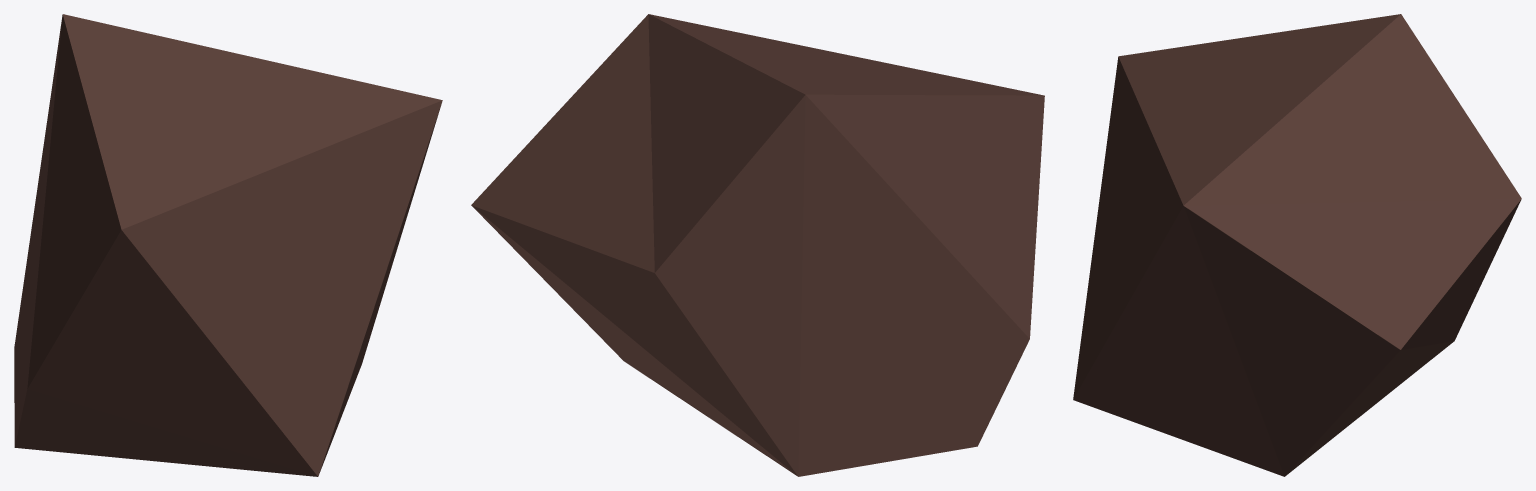
File: Rock-C11.fbx
The picture shows the model from 3 angles, left to right: view 1: azimuth 30°, elevation 25°; view 2: azimuth 150°, elevation 25°; view 3: azimuth 270°, elevation 25°; orthographic projection. The views are drawn at different scales.
Visible parts, largest first — view 1: Rock-C11; view 2: Rock-C11; view 3: Rock-C11.
Boxes of the visible parts, x1,y1,x2,y2 form: Rock-C11: [14, 14, 442, 476]; Rock-C11: [471, 14, 1044, 476]; Rock-C11: [1073, 14, 1521, 476].
Bounding box in the file's own units: 33.82 × 25.79 × 29.91.
